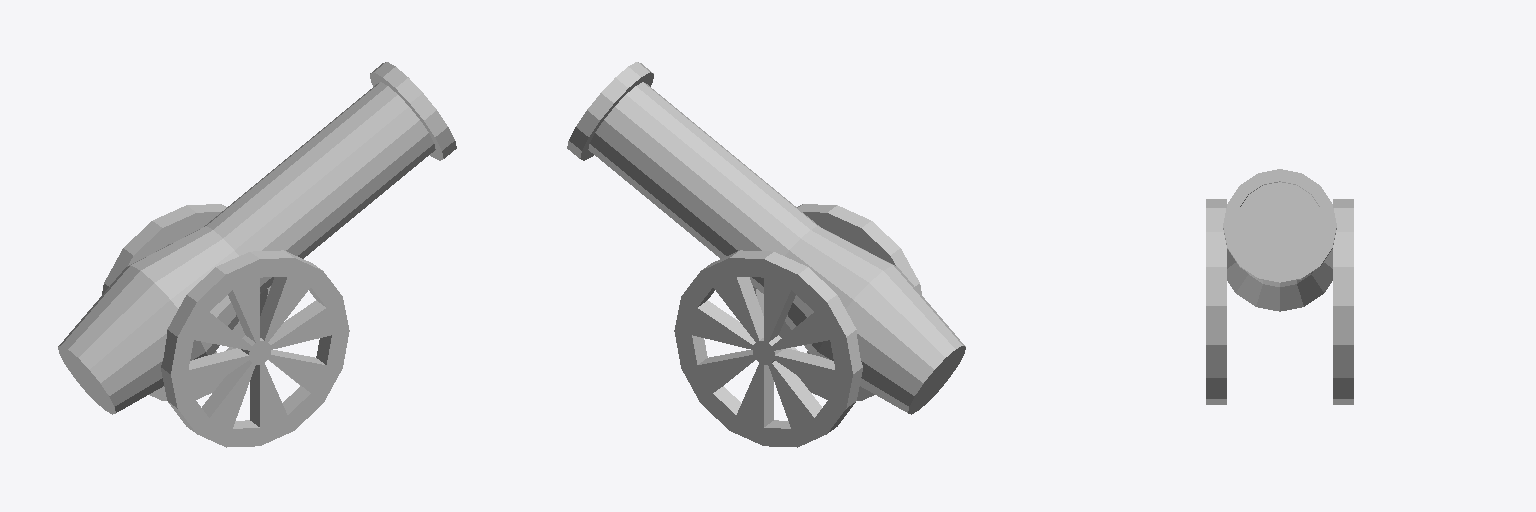
Rendered from cannon.obj.
3 views of the same model, side by side, from view 1: azimuth 30°, elevation 25°; view 2: azimuth 150°, elevation 25°; view 3: azimuth 270°, elevation 25° (orthographic).
Parts seen in each view (by area): view 1: Cannon; view 2: Cannon; view 3: Cannon.
Boxes of the visible parts, box(x1,y1,x2,y2) form: Cannon: box(58, 62, 456, 447); Cannon: box(567, 62, 965, 447); Cannon: box(1206, 169, 1353, 404).
Size of the model in its own units: 1.47 by 1.16 by 0.5.